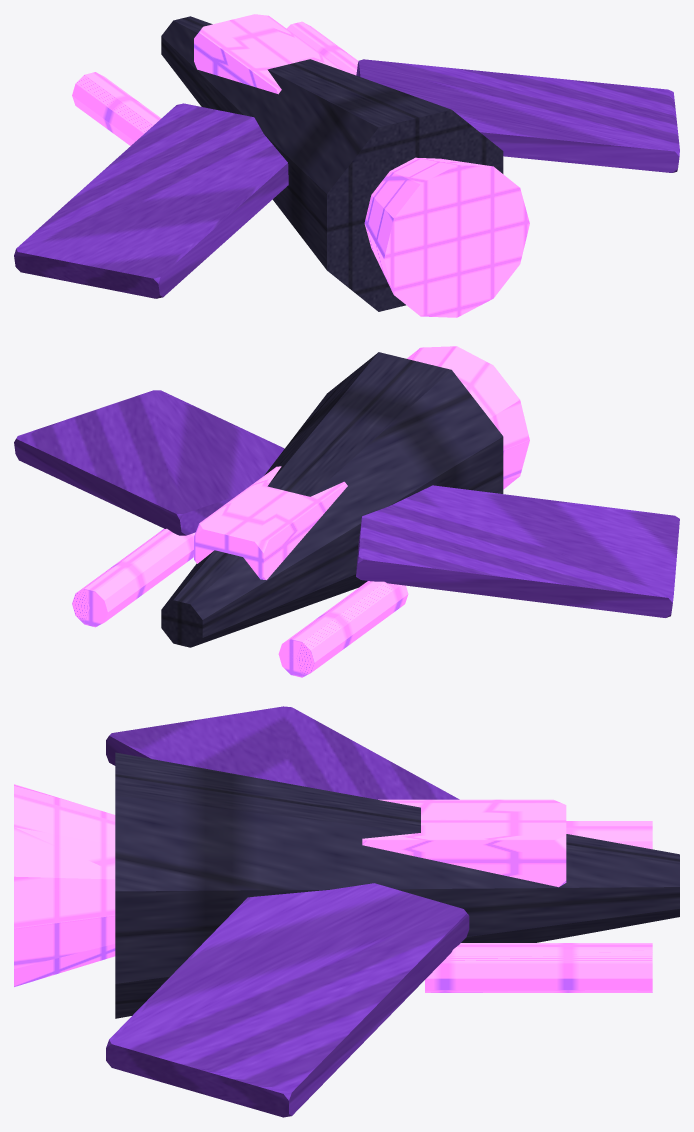
File: enemy_plasma_hunter.glb
The picture shows the model from 3 angles, top to bottom: view 1: azimuth 30°, elevation 25°; view 2: azimuth 150°, elevation 25°; view 3: azimuth 270°, elevation 25°; orthographic projection. The views are drawn at different scales.
Visible parts, largest first — view 1: enemy_plasma_hunter; view 2: enemy_plasma_hunter; view 3: enemy_plasma_hunter.
Boxes of the visible parts, x1,y1,x2,y2 form: enemy_plasma_hunter: (14,14,679,317); enemy_plasma_hunter: (14,346,679,677); enemy_plasma_hunter: (14,706,679,1117).
Bounding box in the file's own units: 5.87 × 1.57 × 4.25.
Materials: 1 (1 with a texture image).
